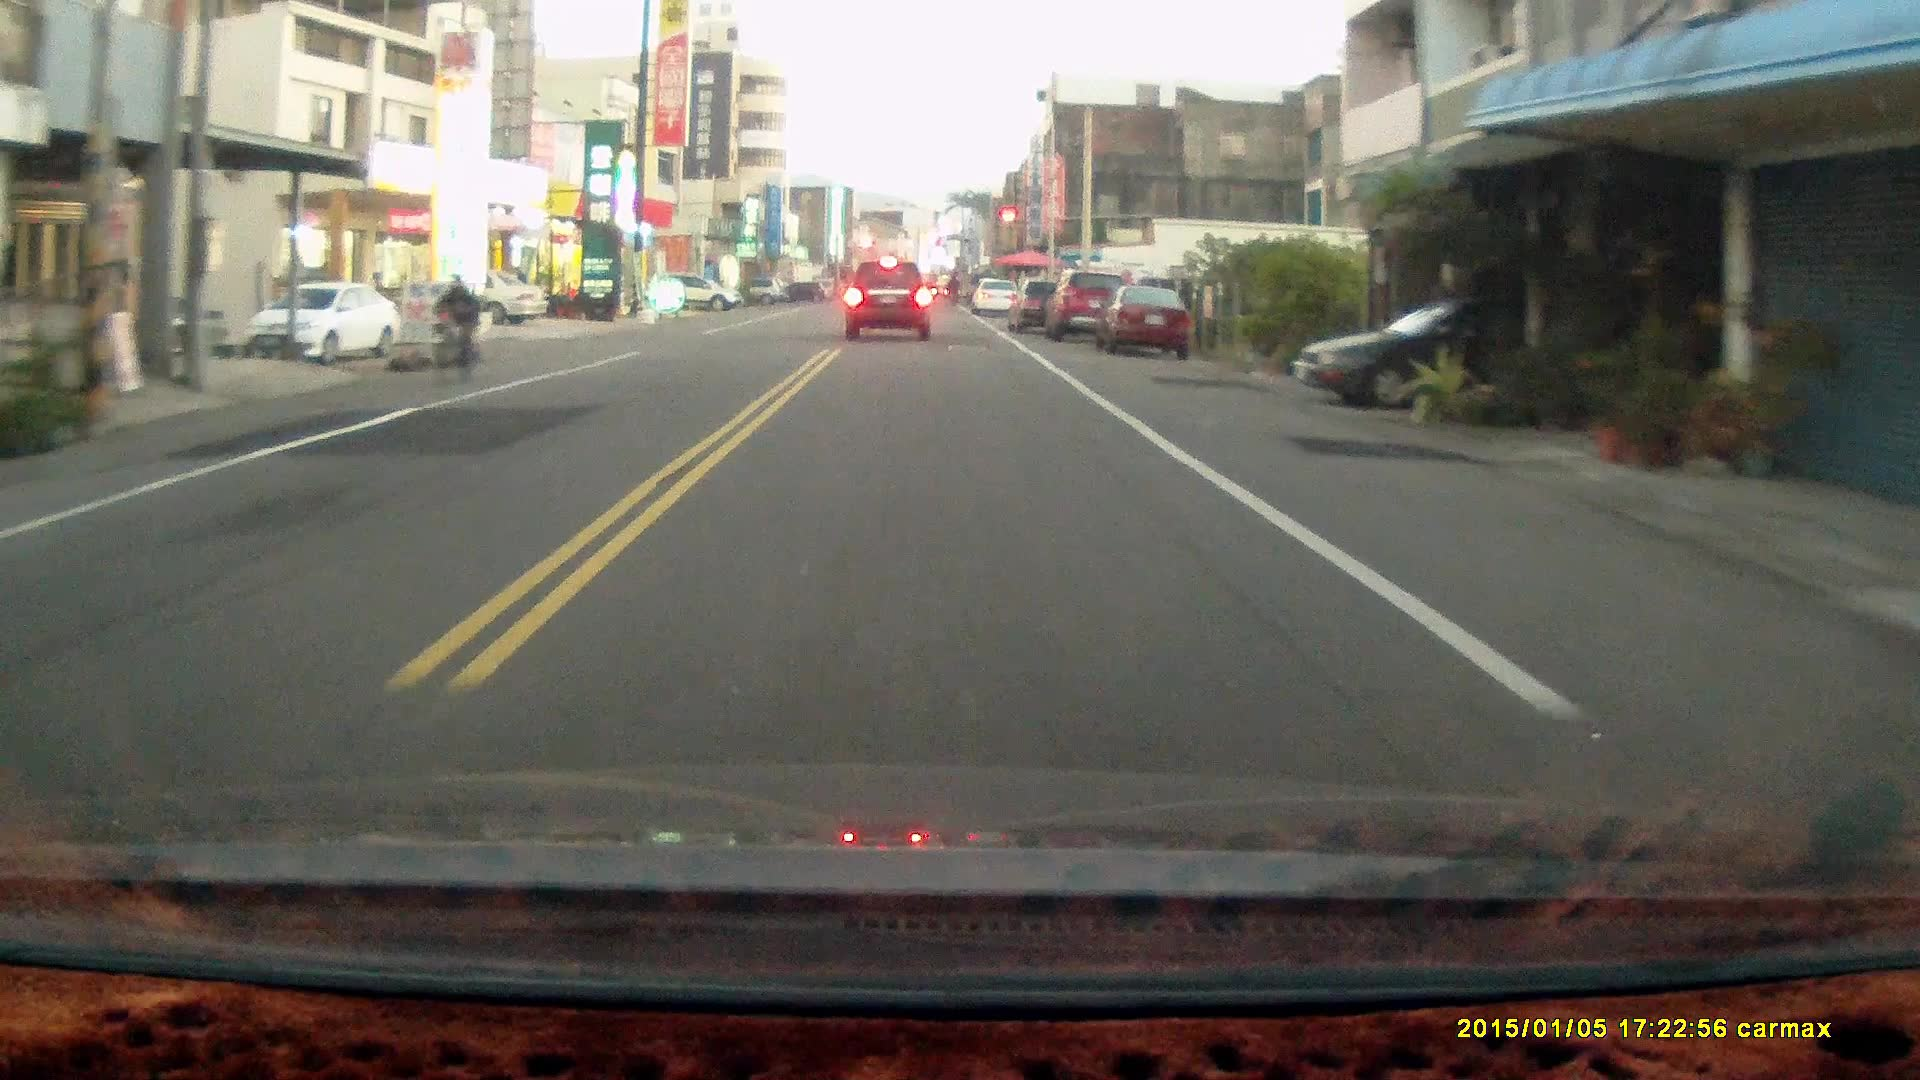rider: (428, 277, 480, 387)
vehicle: (1292, 293, 1680, 413), (247, 290, 400, 374), (401, 276, 553, 334), (1092, 288, 1196, 367), (843, 261, 938, 342), (1047, 270, 1135, 348), (655, 273, 743, 313)
